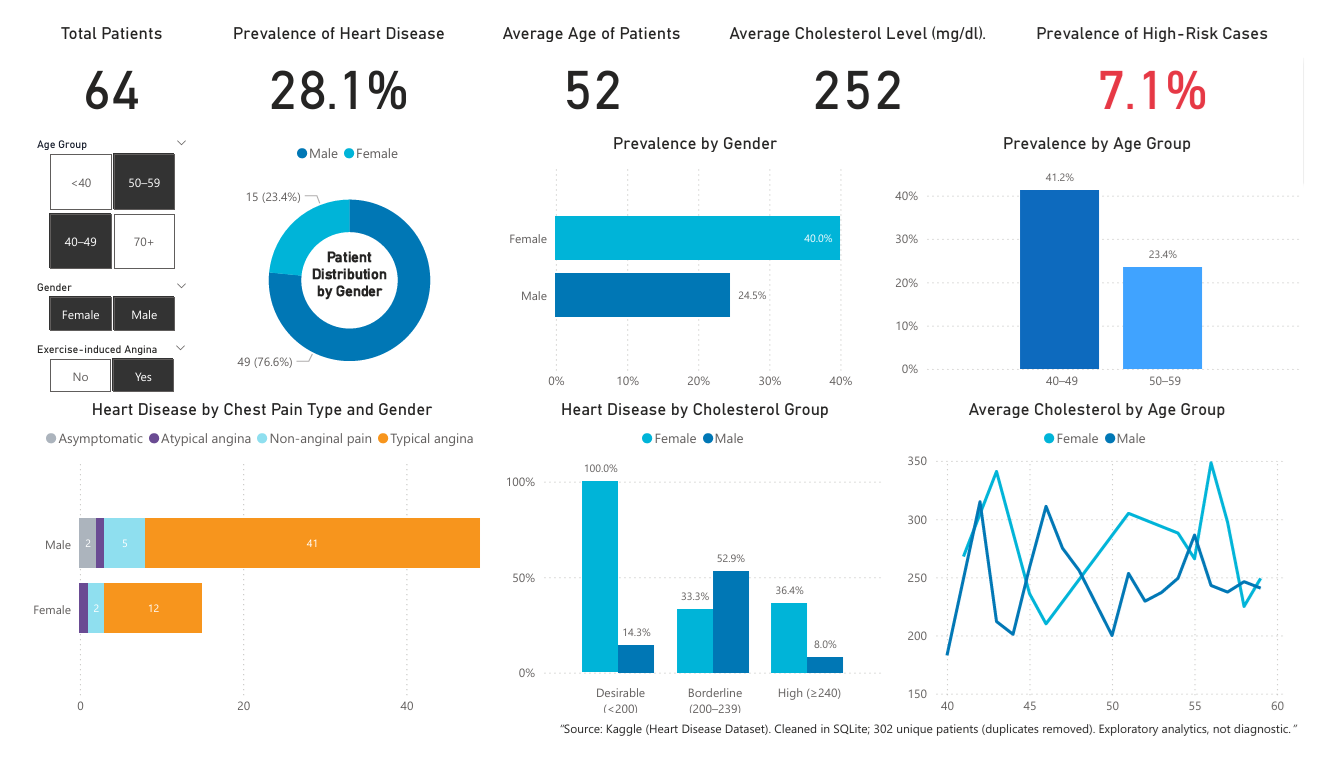

Layout of this report page (visuals, bound fields, positions):
{"tool":"powerbi","page":{"name":"Clinical Heart Disease — SQL + Power BI (302 unique patients)","canvas":[1280,720],"ordinal":0},"visuals":[{"type":"card","title":"Total Patients","fields":{"Values":["heart.Total Patients"]},"box":[0,0,175,101],"z":0},{"type":"card","title":"Average Cholesterol Level (mg/dl).","fields":{"Values":["heart.Avg Cholesterol"]},"box":[693,0,281,101],"z":1000},{"type":"card","title":"Average Age of Patients","fields":{"Values":["heart.Avg Age"]},"box":[464,0,207,101],"z":2000},{"type":"card","title":"Prevalence of Heart Disease","fields":{"Values":["heart.% With Disease"]},"box":[202,0,226,101],"z":3000},{"type":"barChart","title":"Prevalence by Gender","fields":{"Category":["heart.Sex Label"],"Y":["heart.% With Disease"]},"box":[476,110,390,266],"z":4000},{"type":"clusteredColumnChart","title":"Prevalence by Age Group","fields":{"Y":["heart.% With Disease"],"Category":["heart.AgeBand"]},"box":[866,110,414,266],"z":5000},{"type":"lineChart","title":"Average Cholesterol by Age Group","fields":{"Category":["heart.Age"],"Y":["heart.Avg Cholesterol"],"Series":["heart.Sex Label"]},"box":[878,376,390,325],"z":6000},{"type":"barChart","title":"Heart Disease by Chest Pain Type and Gender","fields":{"Category":["heart.Sex Label"],"Series":["heart.ChestPain Label"],"Y":["heart.Total Patients"]},"box":[0,376,476,325],"z":7000},{"type":"clusteredColumnChart","title":"Heart Disease by Cholesterol Group","fields":{"Category":["heart.Chol Category"],"Y":["heart.% With Disease"],"Series":["heart.Sex Label"]},"box":[476,376,390,325],"z":8000},{"type":"card","title":"Prevalence of High-Risk Cases","fields":{"Values":["heart.High-Risk % (safe)"]},"box":[1007,0,242,101],"z":9000},{"type":"donutChart","title":"Patient Distribution by Gender.","fields":{"Category":["heart.Sex Label"],"Y":["heart.Total Patients"]},"box":[175,110,301,266],"z":10000},{"type":"slicer","fields":{"Values":["heart.AgeBand"]},"box":[0,110,175,143],"z":11000},{"type":"slicer","fields":{"Values":["heart.Sex Label"]},"box":[0,253,175,62],"z":12000},{"type":"slicer","fields":{"Values":["heart.ExerciseAngina Label"]},"box":[0,315,174,61],"z":13000},{"type":"textbox","box":[278,220,95,66],"z":13001},{"type":"textbox","box":[527,691,753,29],"z":13002}]}

Visuals, with their boxes in screenshot pixels (x1, y1, x2, y2), scaled from the page's 1280x720 canvas onto the 1328x767 screenshot:
"Total Patients" card: box=[0, 0, 182, 108]
"Average Cholesterol Level (mg/dl)." card: box=[719, 0, 1011, 108]
"Average Age of Patients" card: box=[481, 0, 696, 108]
"Prevalence of Heart Disease" card: box=[210, 0, 444, 108]
"Prevalence by Gender" barChart: box=[494, 117, 898, 401]
"Prevalence by Age Group" clusteredColumnChart: box=[898, 117, 1327, 401]
"Average Cholesterol by Age Group" lineChart: box=[911, 401, 1316, 747]
"Heart Disease by Chest Pain Type and Gender" barChart: box=[0, 401, 494, 747]
"Heart Disease by Cholesterol Group" clusteredColumnChart: box=[494, 401, 898, 747]
"Prevalence of High-Risk Cases" card: box=[1045, 0, 1296, 108]
"Patient Distribution by Gender." donutChart: box=[182, 117, 494, 401]
slicer - heart.AgeBand: box=[0, 117, 182, 270]
slicer - heart.Sex Label: box=[0, 270, 182, 336]
slicer - heart.ExerciseAngina Label: box=[0, 336, 181, 401]
textbox: box=[288, 234, 387, 305]
textbox: box=[547, 736, 1327, 766]
